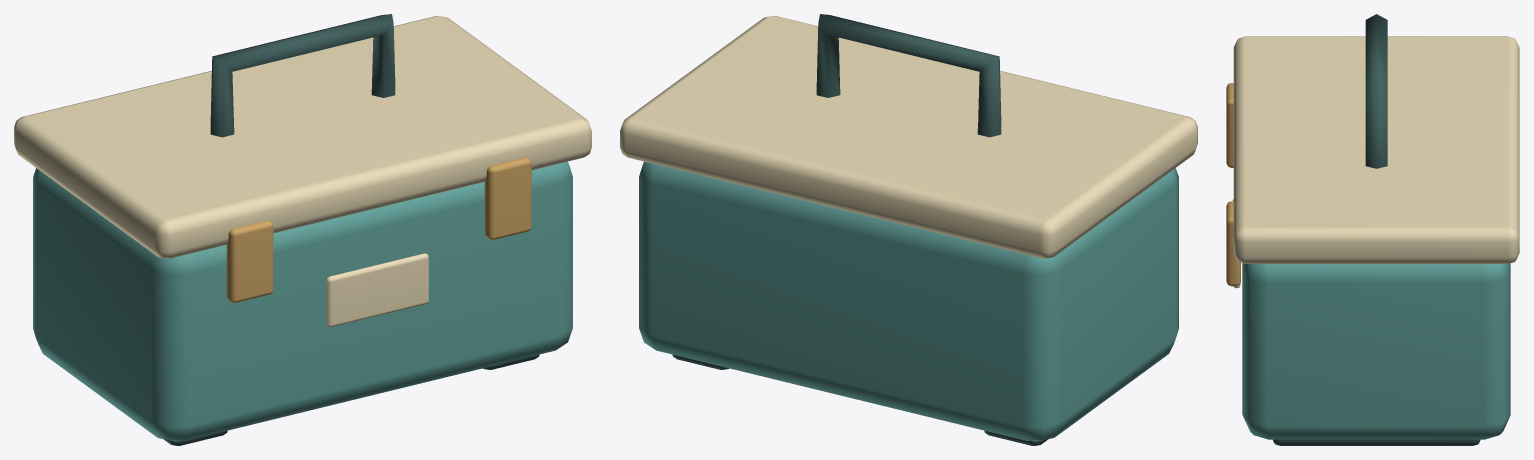
Rendered from tackle_box.glb.
The picture shows the model from 3 angles, left to right: view 1: azimuth 30°, elevation 25°; view 2: azimuth 150°, elevation 25°; view 3: azimuth 270°, elevation 25°; orthographic projection. The views are drawn at different scales.
Visible parts, largest first — view 1: Box_shell, Lid, Carry_handle, Badge, Brass_latch, Brass_latch.001; view 2: Box_shell, Lid, Carry_handle; view 3: Lid, Box_shell, Carry_handle, Foot.001, Brass_latch.001, Brass_latch.
Part boxes in pixels (bbox=[...]): Box_shell: bbox=[33, 161, 572, 441]; Lid: bbox=[14, 16, 591, 258]; Carry_handle: bbox=[210, 14, 395, 137]; Badge: bbox=[326, 253, 428, 327]; Brass_latch: bbox=[226, 220, 273, 302]; Brass_latch.001: bbox=[484, 157, 531, 239]; Box_shell: bbox=[639, 161, 1178, 441]; Lid: bbox=[620, 16, 1197, 258]; Carry_handle: bbox=[816, 14, 1001, 137]; Lid: bbox=[1233, 36, 1519, 263]; Box_shell: bbox=[1242, 263, 1510, 439]; Carry_handle: bbox=[1365, 14, 1387, 168]; Foot.001: bbox=[1273, 439, 1480, 445]; Brass_latch.001: bbox=[1226, 201, 1240, 286]; Brass_latch: bbox=[1226, 83, 1233, 167].
Size of the model in its own units: 0.81 by 0.5856 by 0.5025.
